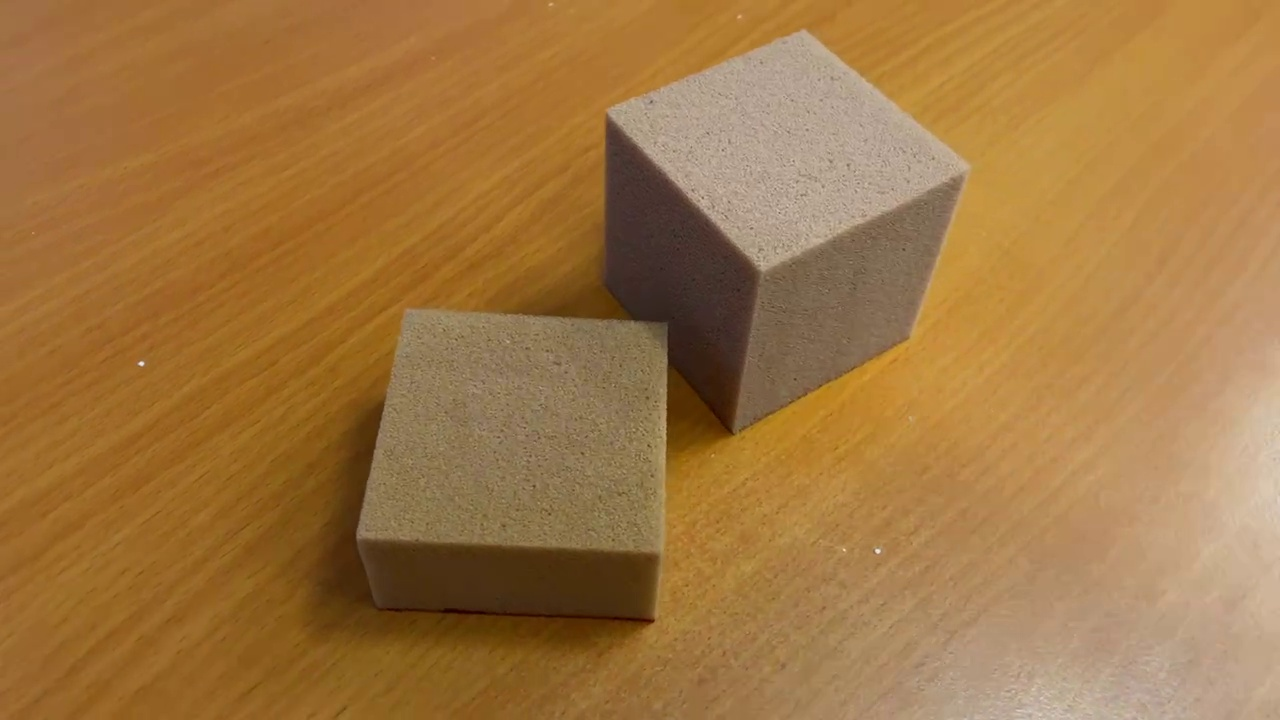Cube: (597, 24, 973, 441)
Cube_short: (348, 303, 677, 634)
